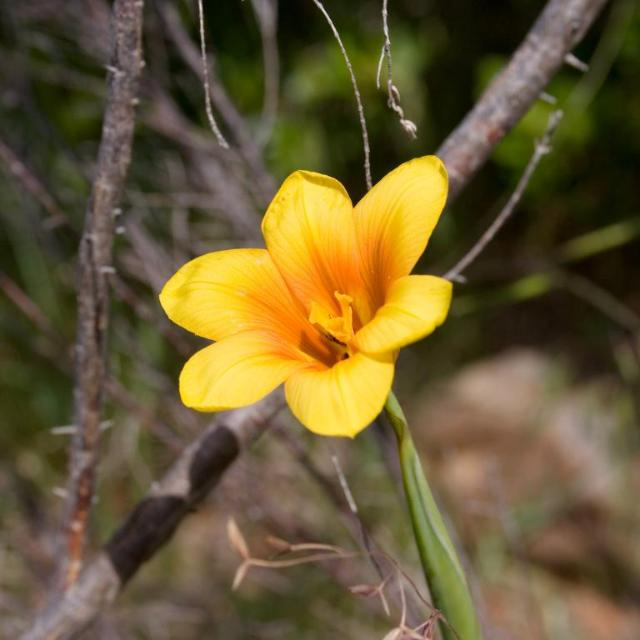Flower: (151, 157, 467, 447)
